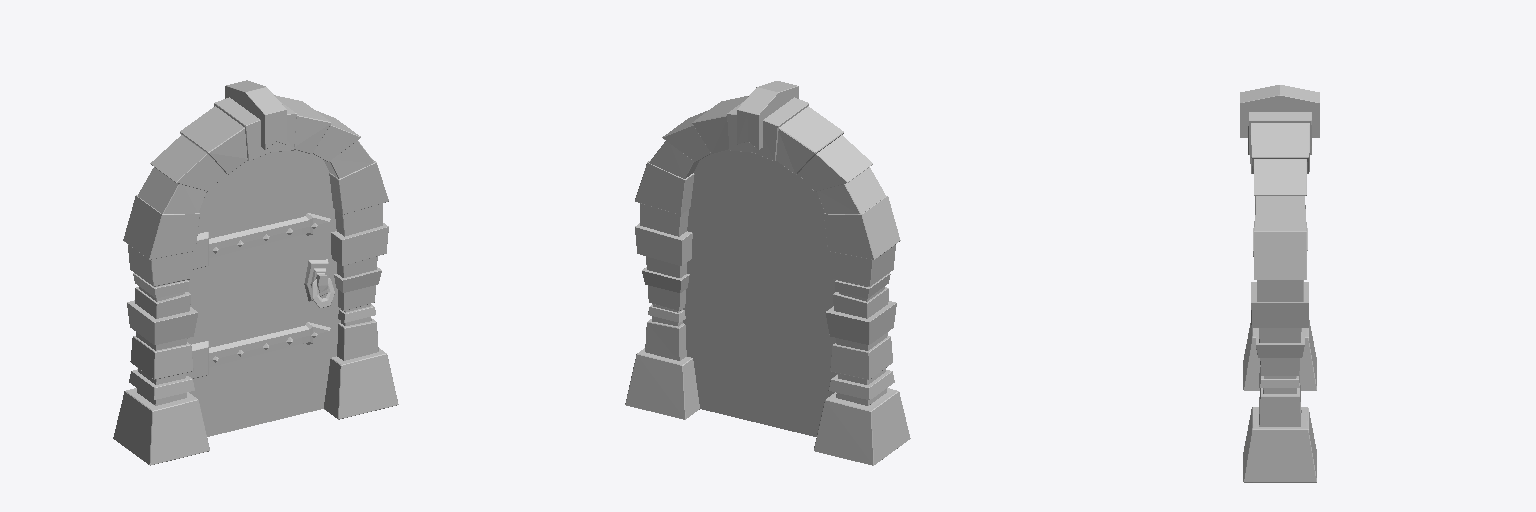
Rendered from Door_Low1.obj.
3 views of the same model, side by side, from view 1: azimuth 30°, elevation 25°; view 2: azimuth 150°, elevation 25°; view 3: azimuth 270°, elevation 25° (orthographic).
Visible parts, largest first — view 1: Door_Low polySurface265, Door_Low polySurface272, Door_Low polySurface269, Door_Low polySurface296, Door_Low polySurface271, Door_Low polySurface245, Door_Low polySurface304, Door_Low polySurface307, polySurface267 Door_Low, Door_Low polySurface306, Door_Low pCube3, Door_Low polySurface249 (+20 smaller); view 2: Door_Low polySurface269, Door_Low polySurface272, Door_Low polySurface265, Door_Low polySurface271, Door_Low polySurface296, Door_Low polySurface245, polySurface267 Door_Low, Door_Low polySurface304, Door_Low polySurface307, Door_Low polySurface306, Door_Low pCube3, Door_Low polySurface249 (+16 smaller); view 3: Door_Low polySurface245, Door_Low polySurface249, Door_Low pCube3, Door_Low polySurface308, Door_Low polySurface237, Door_Low polySurface305, Door_Low polySurface241, Door_Low polySurface296, Door_Low polySurface294, Door_Low polySurface242, Door_Low polySurface303, Door_Low polySurface235 (+1 smaller).
Boxes of the visible parts, x1,y1,x2,y2 form: Door_Low polySurface265: [210, 163, 244, 435]; Door_Low polySurface272: [245, 152, 277, 427]; Door_Low polySurface269: [276, 150, 310, 419]; Door_Low polySurface296: [113, 388, 209, 465]; Door_Low polySurface271: [309, 153, 340, 411]; Door_Low polySurface245: [324, 348, 398, 419]; Door_Low polySurface304: [123, 195, 199, 259]; Door_Low polySurface307: [180, 106, 247, 174]; polySurface267 Door_Low: [187, 191, 210, 436]; Door_Low polySurface306: [150, 135, 225, 191]; Door_Low pCube3: [225, 80, 286, 149]; Door_Low polySurface249: [329, 160, 388, 214]; Door_Low polySurface269: [713, 150, 747, 420]; Door_Low polySurface272: [746, 152, 779, 427]; Door_Low polySurface265: [779, 164, 813, 435]; Door_Low polySurface271: [683, 154, 714, 411]; Door_Low polySurface296: [814, 388, 910, 465]; Door_Low polySurface245: [625, 348, 699, 419]; polySurface267 Door_Low: [813, 191, 837, 436]; Door_Low polySurface304: [824, 196, 900, 259]; Door_Low polySurface307: [776, 106, 843, 174]; Door_Low polySurface306: [798, 135, 872, 191]; Door_Low pCube3: [737, 81, 798, 149]; Door_Low polySurface249: [635, 160, 694, 214]; Door_Low polySurface245: [1243, 407, 1316, 482]; Door_Low polySurface249: [1254, 221, 1306, 279]; Door_Low pCube3: [1240, 85, 1319, 137]; Door_Low polySurface308: [1250, 123, 1310, 173]; Door_Low polySurface237: [1254, 159, 1306, 195]; Door_Low polySurface305: [1255, 196, 1305, 230]; Door_Low polySurface241: [1251, 282, 1308, 327]; Door_Low polySurface296: [1243, 320, 1316, 390]; Door_Low polySurface294: [1259, 385, 1301, 426]; Door_Low polySurface242: [1259, 328, 1301, 375]; Door_Low polySurface303: [1257, 280, 1303, 301]; Door_Low polySurface235: [1248, 112, 1311, 154].
Size of the model in its own units: 200 by 255 by 56.19.